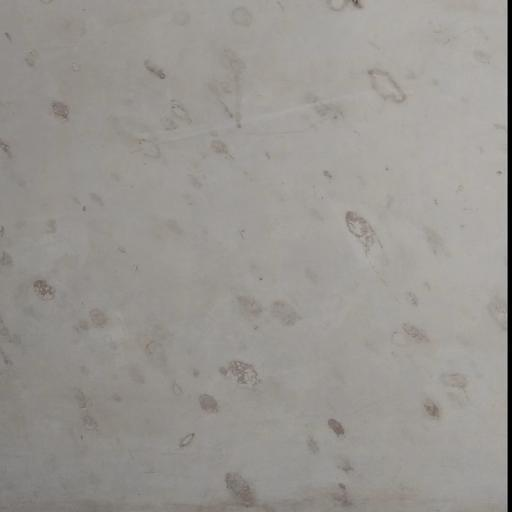stain: (0, 18, 512, 512)
